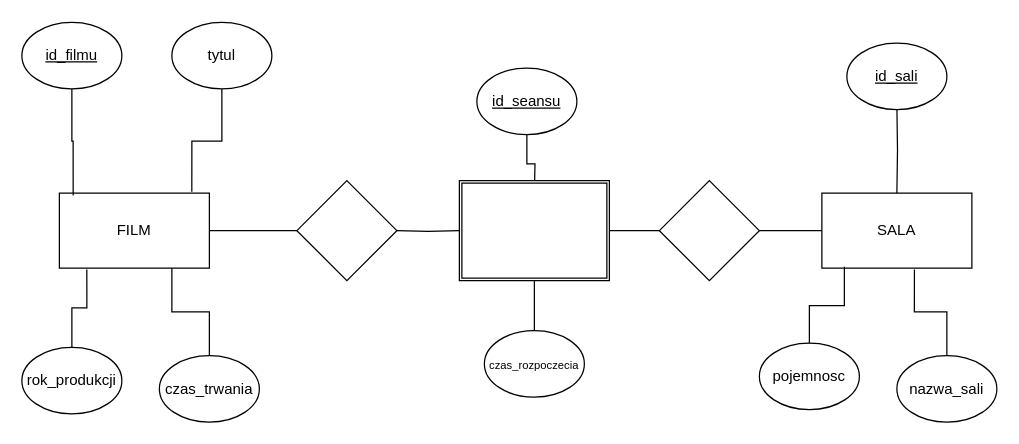
Image size: 1019x444. Some labels were removed from this diagram. The centre of each missing label's shape, as x and y in pixels:
"odbywa się" goes at pixel 708 230.
"posiada" goes at pixel 346 230.
"SEANS" goes at pixel 533 230.
